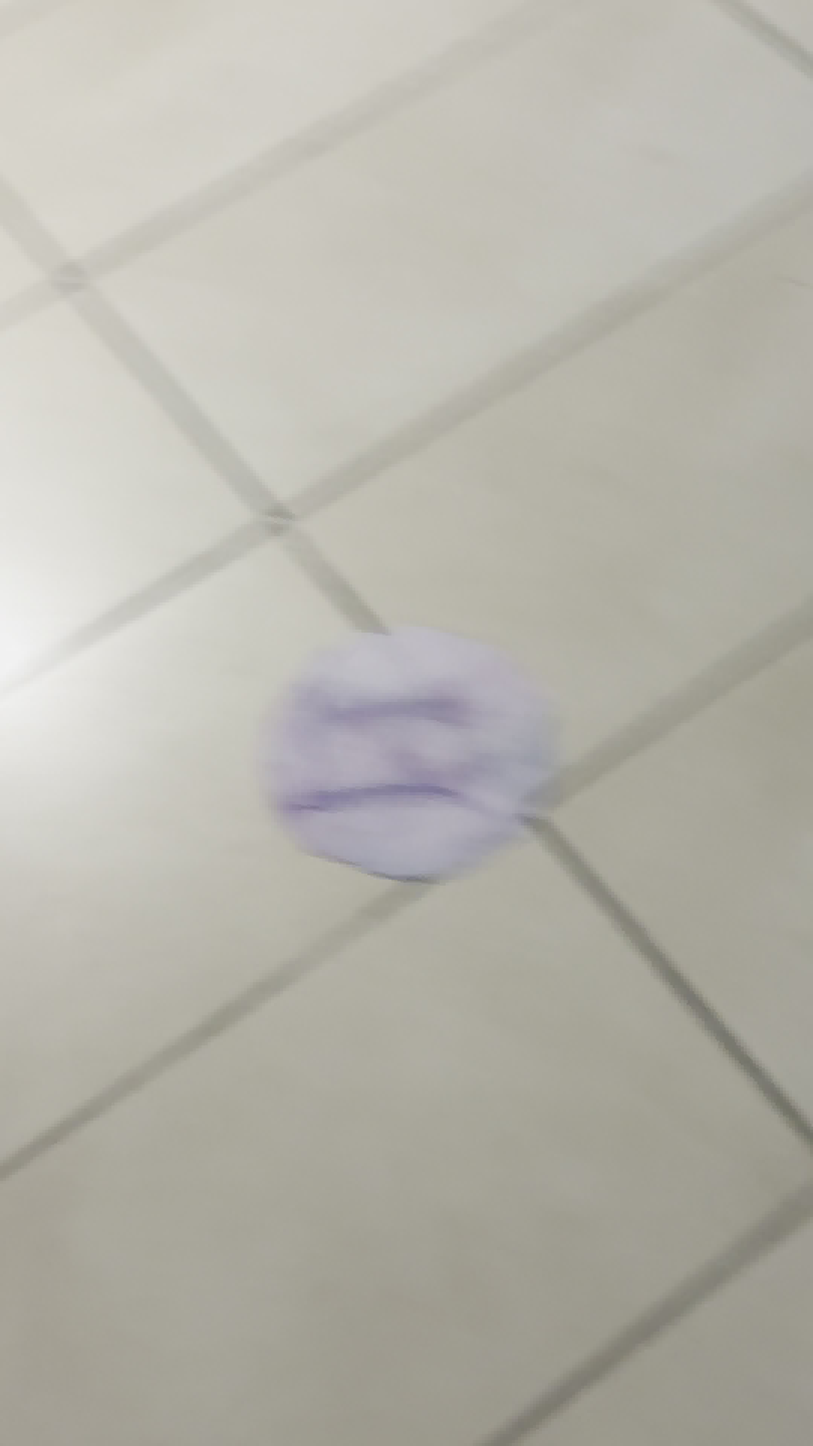Target: (266, 632, 556, 882)
